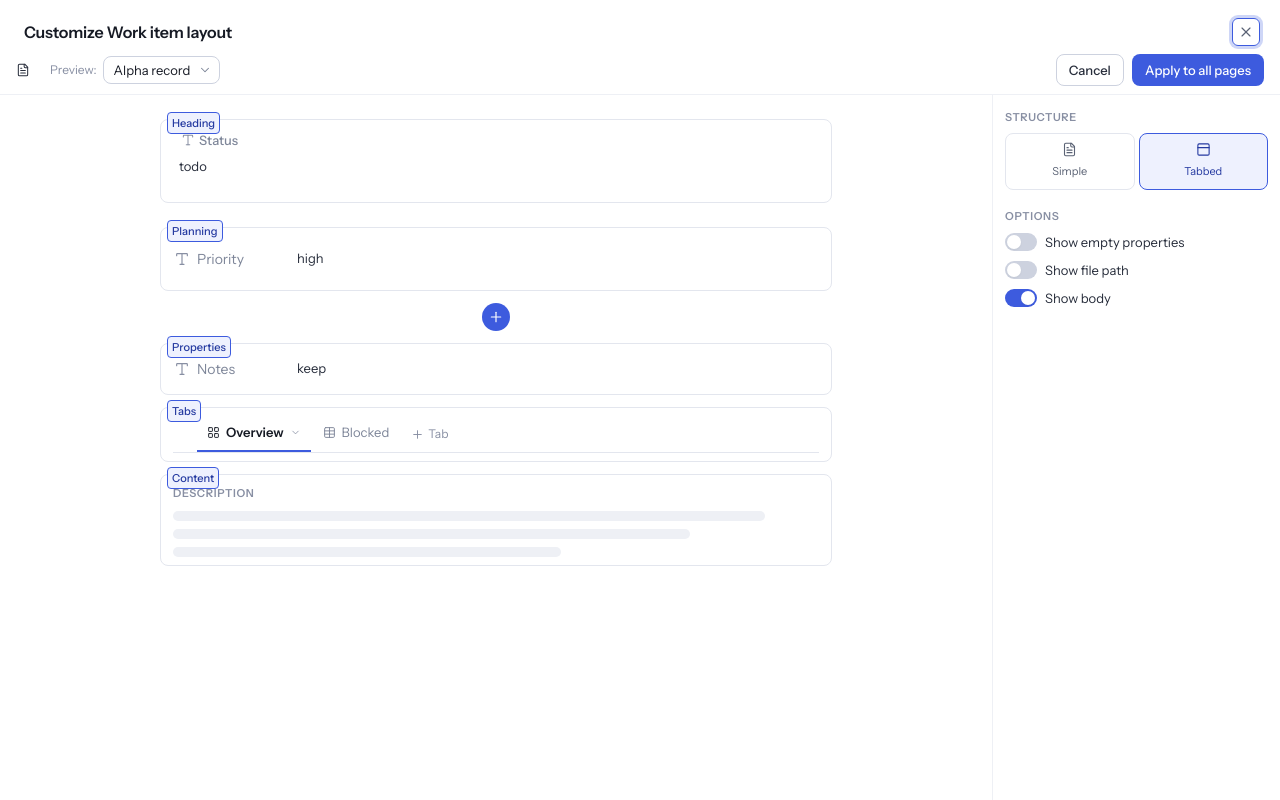
the view-tab placeholder (M45.4) › the placeholder follows the ACTIVE tab, not the first (M45.5 Task 2)
expect the element with test id "record-tabs" is shown: met, box [197,416,454,452]
Note: Pressing the view tab selects it — and the placeholder is ITS source.
What coordinates should you click on to do the following:
click the tab with test id "record-tab-v1"
I would click on:
 (356, 434)
Its box is [313,416,399,452].
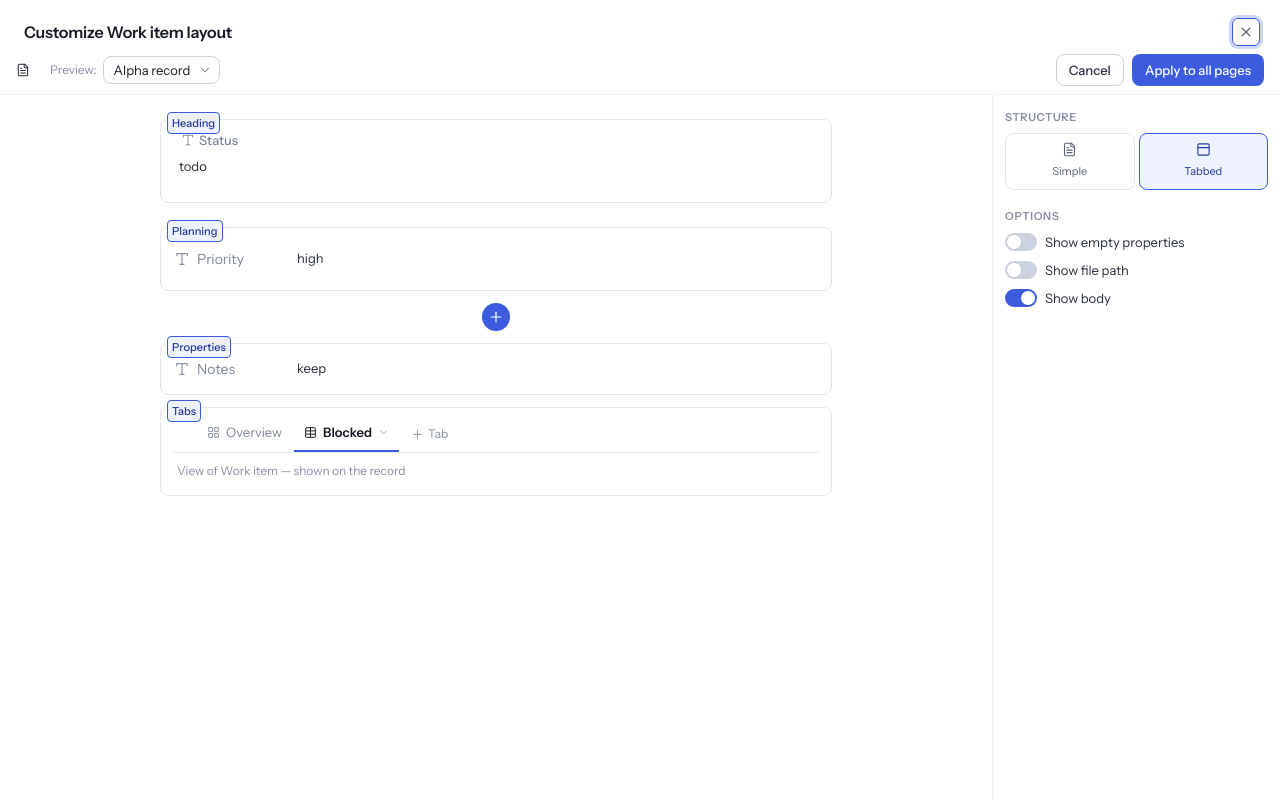
expect the text with test id "layout-preview-viewtab" reads "View of Work item — shown on the record": met, box [177,463,406,478]
Note: And back: the placeholder belongs to the active tab, never the first.
What coordinates should you click on to do the following:
click the tab with test id "record-tab-o1"
I would click on:
 (244, 434)
Its box is [197,416,292,452].
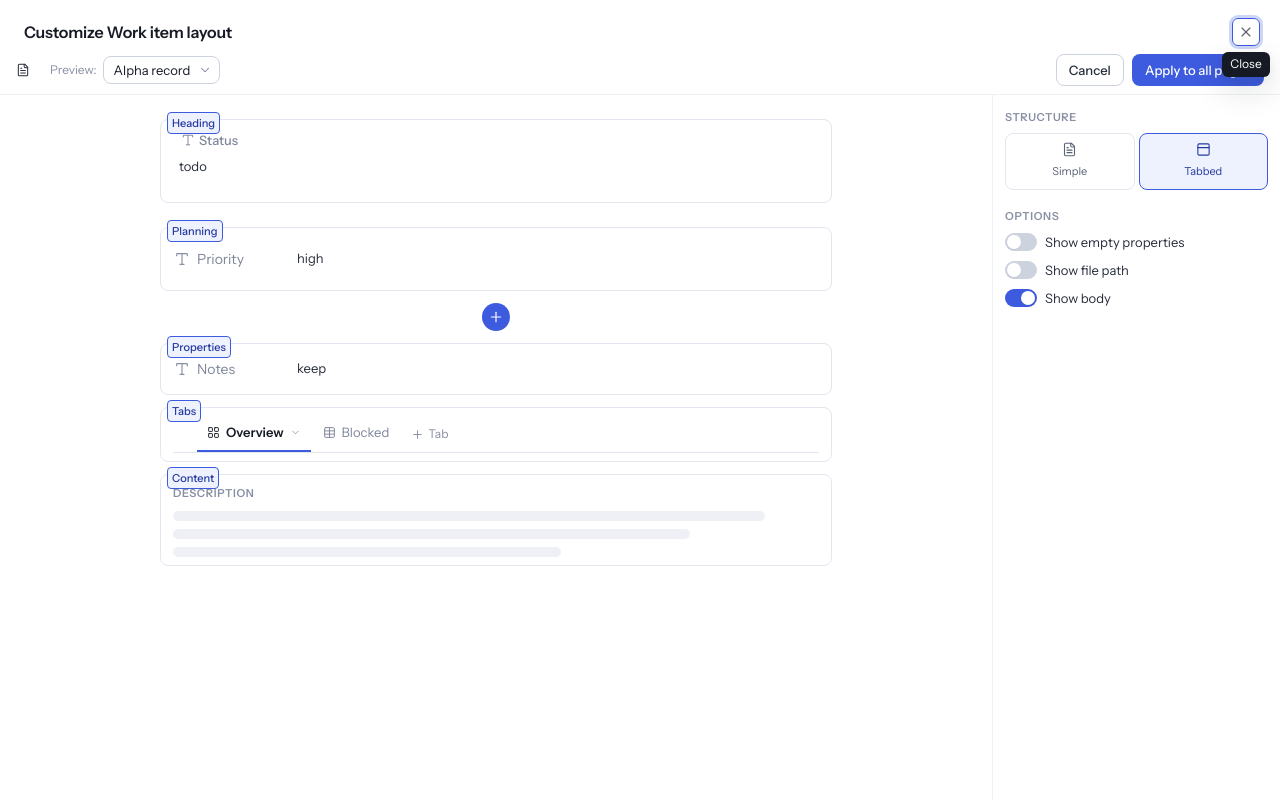
expect the text with test id "layout-preview-viewtab" is gone: met
